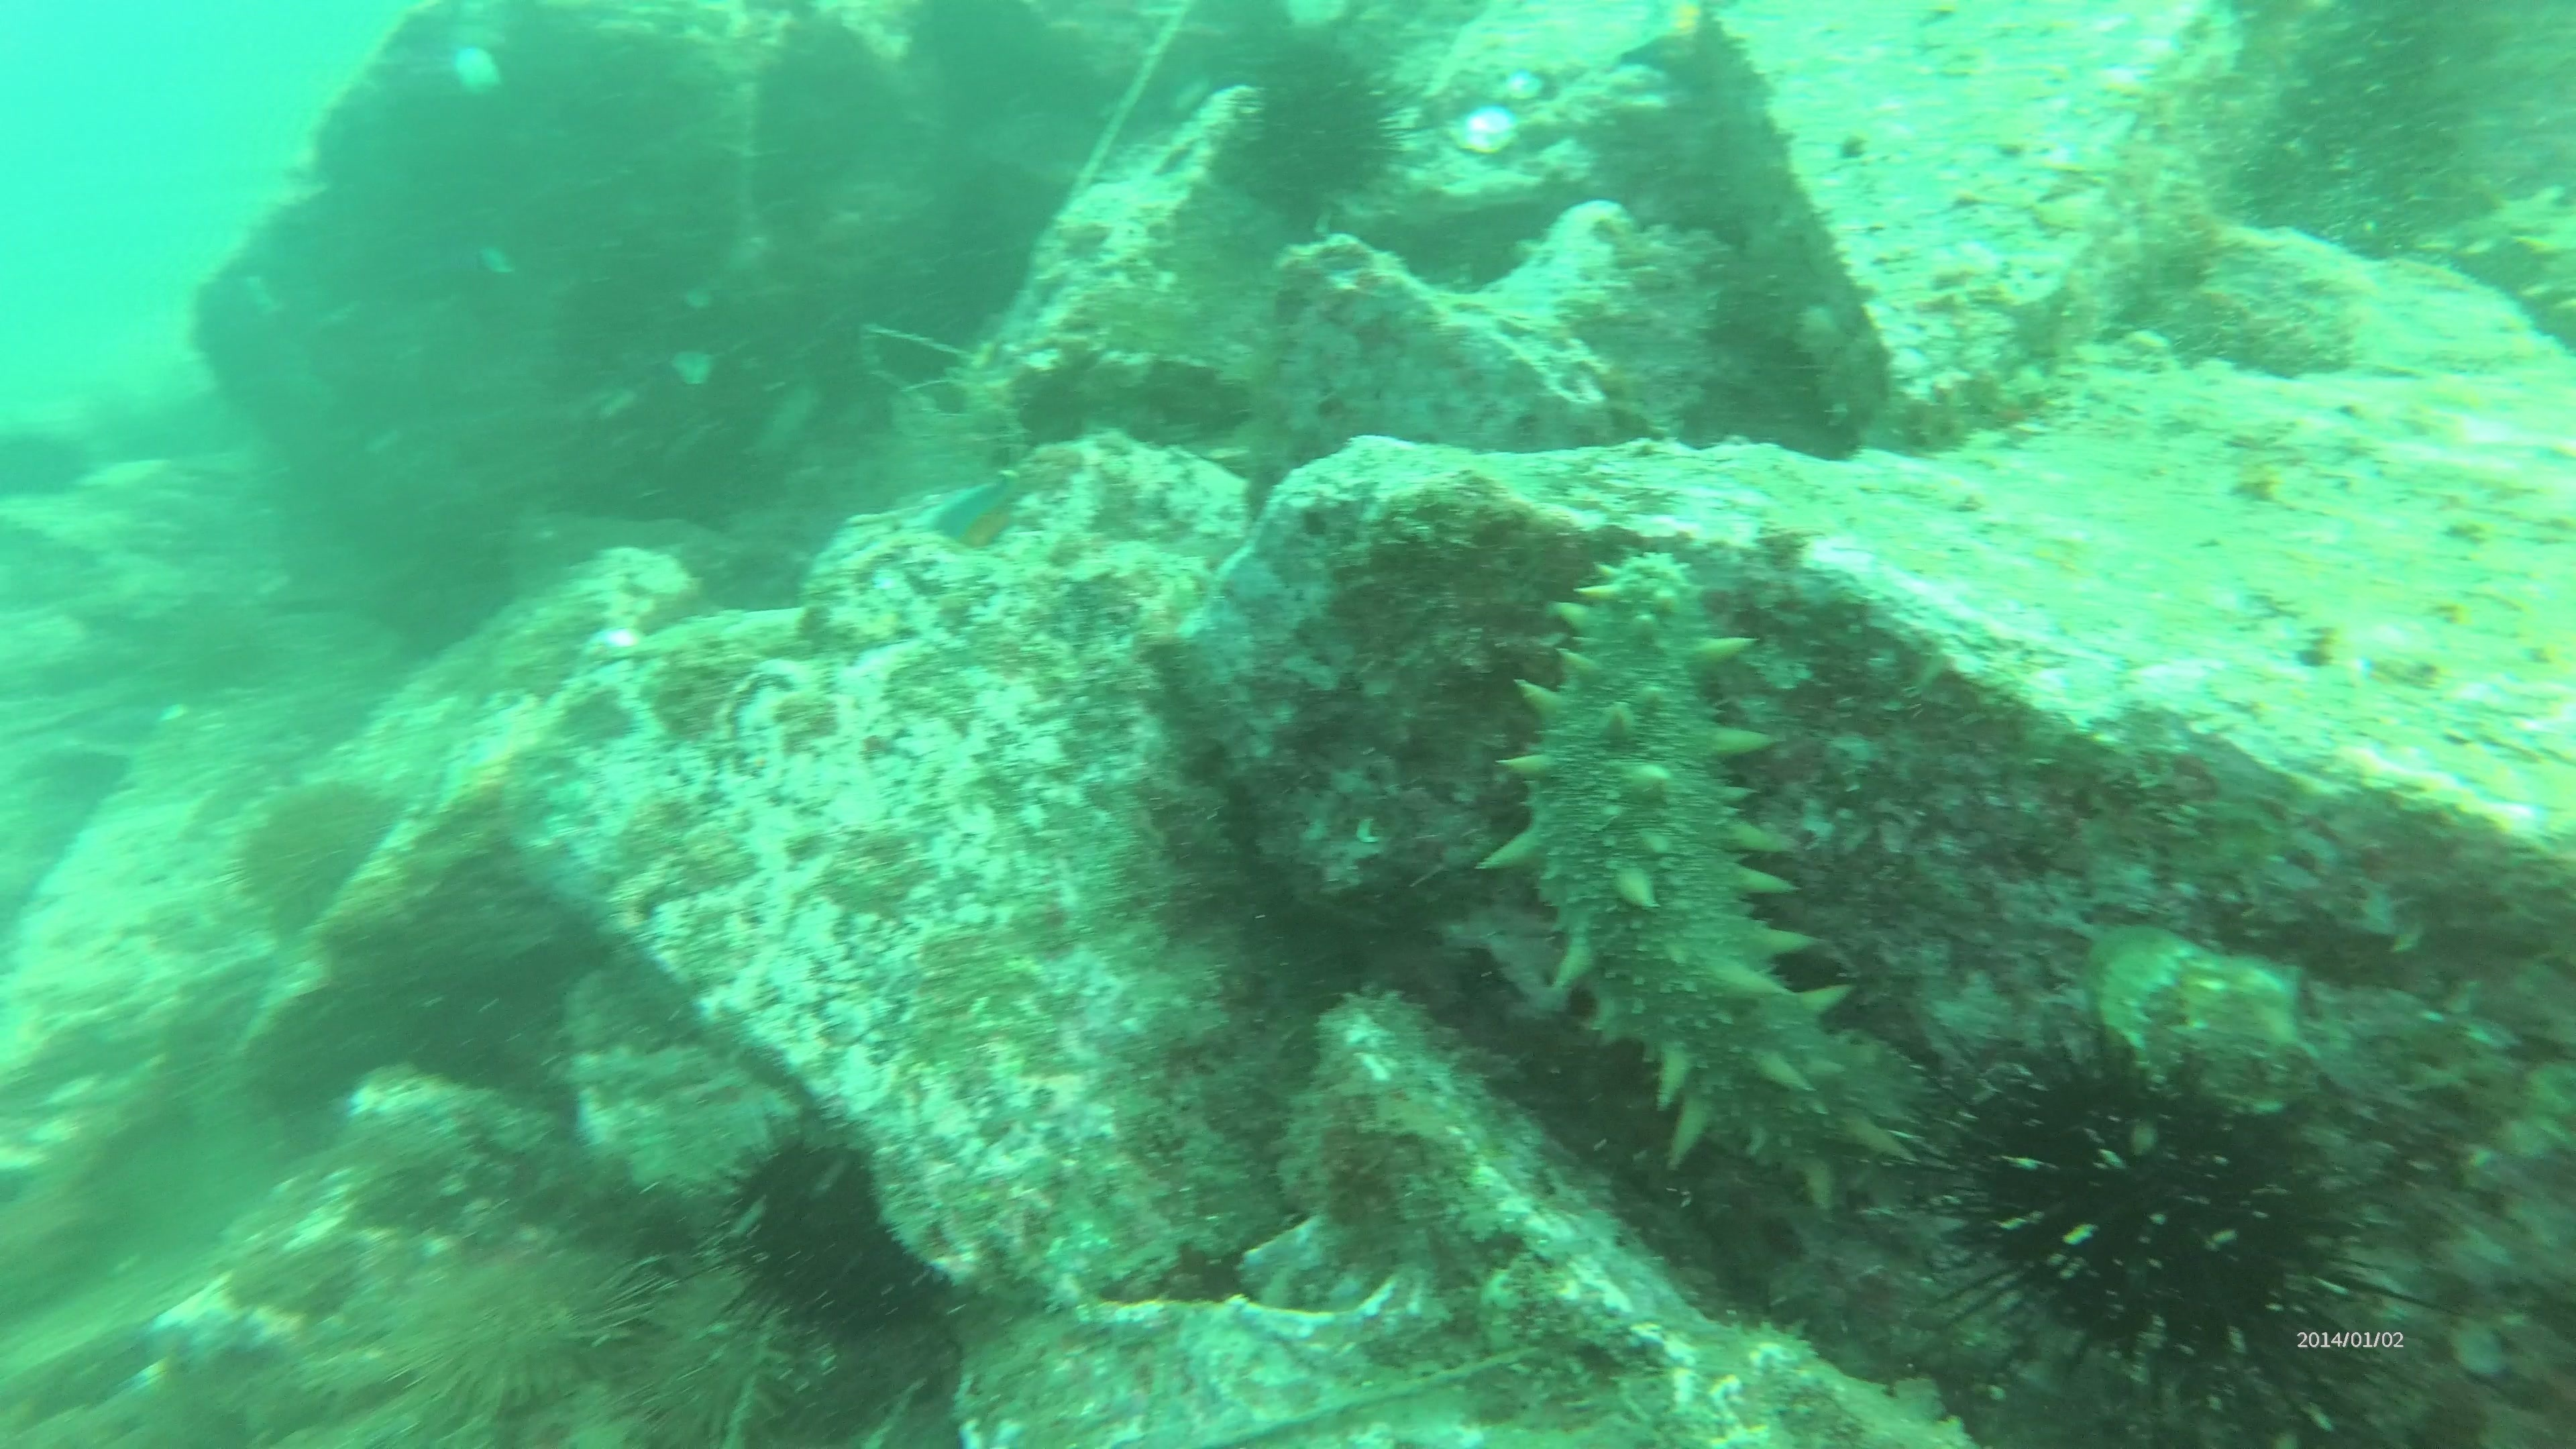echinus: (1911, 1016, 2404, 1422), (382, 1228, 660, 1428), (711, 1118, 947, 1350), (603, 1254, 830, 1444), (1219, 25, 1421, 223), (225, 770, 403, 938)
holothurian: (1481, 552, 1927, 1207)
starfish: (800, 467, 1026, 600), (1614, 2, 1727, 87)
